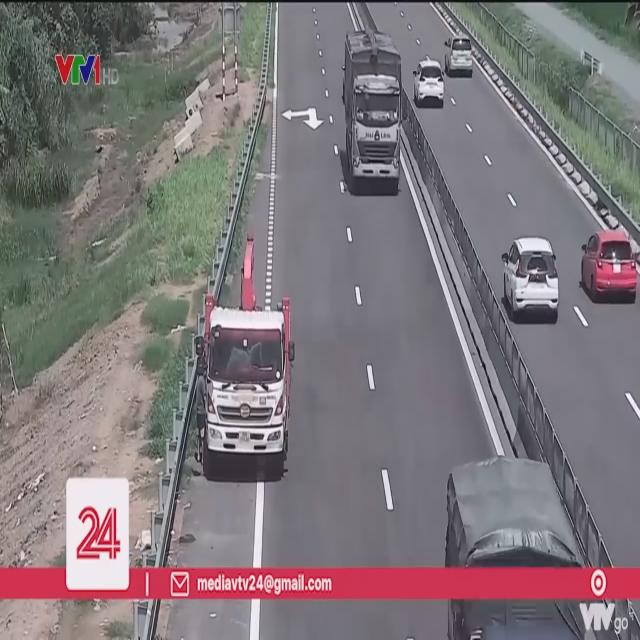car: (505, 238, 562, 324), (580, 228, 640, 304), (413, 60, 446, 107), (447, 34, 472, 78)
truck: (204, 299, 294, 473), (448, 466, 576, 565), (345, 37, 405, 196)
